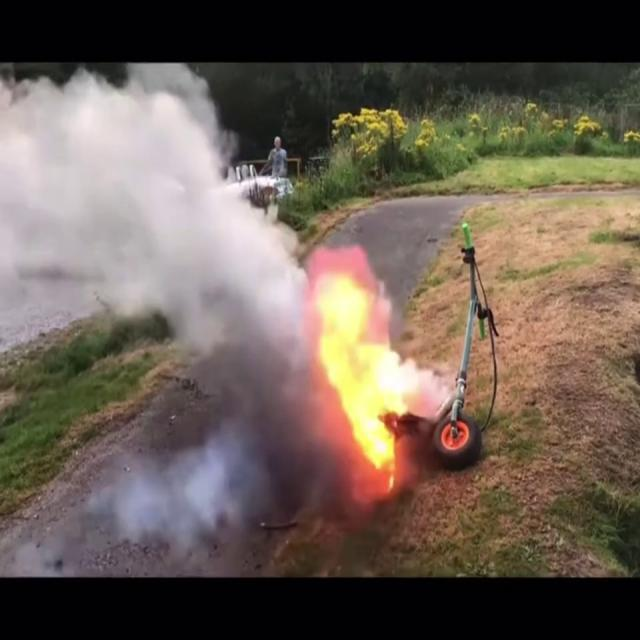Fire: (302, 255, 424, 485)
Smoke: (130, 144, 354, 554), (0, 64, 316, 345)
